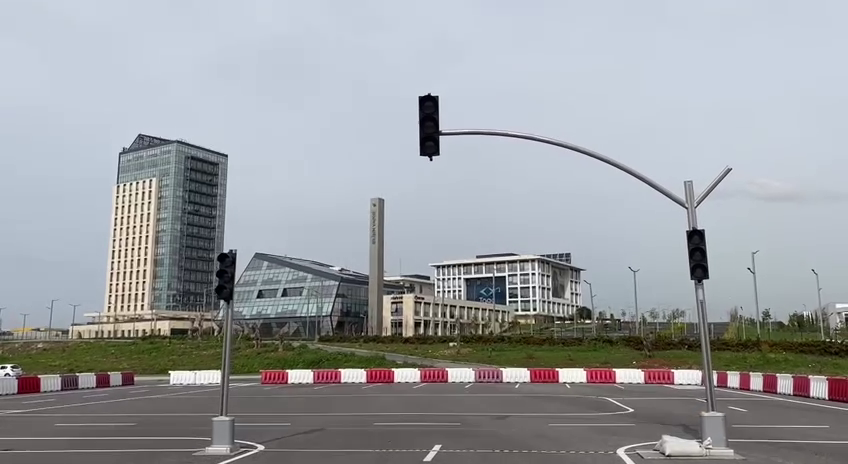trafficLight: (414, 89, 445, 163), (682, 225, 714, 285), (213, 246, 241, 303)
